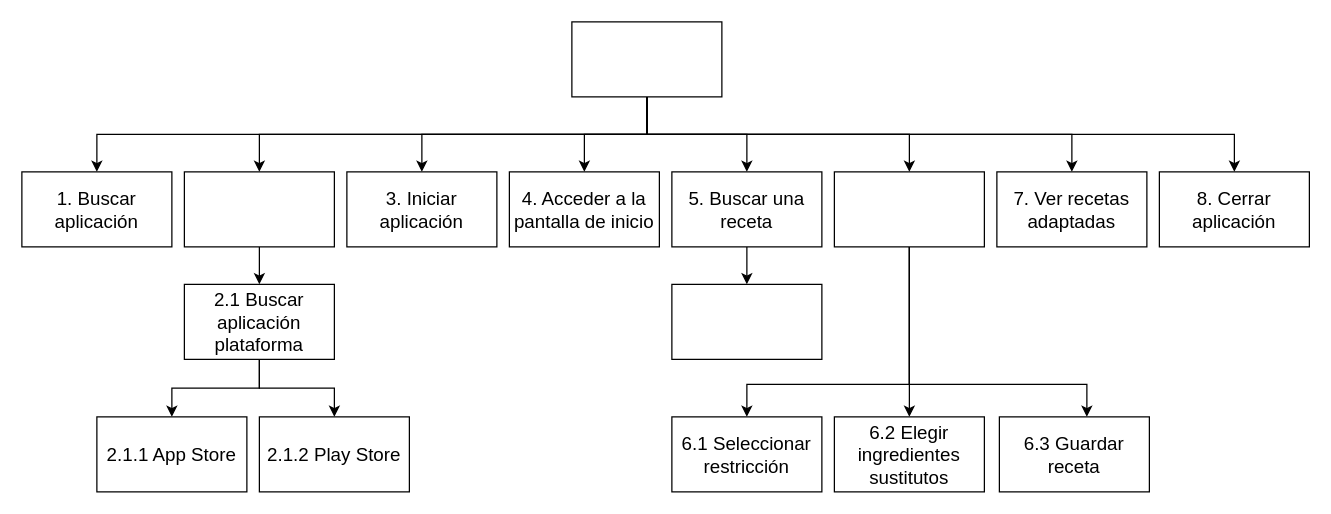
Some shapes in this 1331 by 514 pixel diagram are drawn without their labels. Here are the shapes that lost their labels. From the top down, the box of each, then its label:
(571, 21, 722, 97): 0. Usuario
(183, 171, 334, 247): 2. Descargar aplicación
(833, 171, 984, 247): 6. Adaptar receta
(671, 283, 822, 359): 5.1 Introducir nombre de la receta
